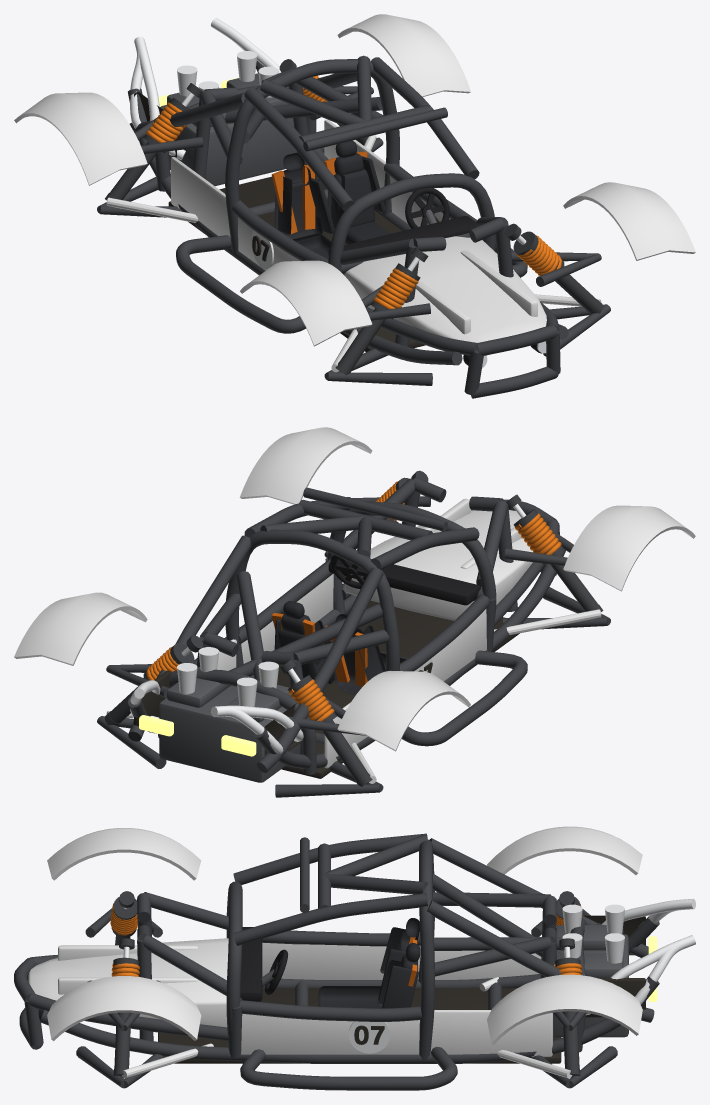
The model's file is body_baja.fbx.
3 views of the same model, one above another, from view 1: azimuth 30°, elevation 25°; view 2: azimuth 150°, elevation 25°; view 3: azimuth 270°, elevation 25° (orthographic). The views are drawn at different scales.
Parts seen in each view (by area): view 1: bajapaint_1, tube_1, dark_4, gunmetal_4, chrome_2, gunmetal_1, tube_10, tube_8, dark_5, gunmetal_6, chrome_1, orange_1 (+12 smaller); view 2: tube_1, bajapaint_1, gunmetal_4, gunmetal_1, dark_4, dark_5, chrome_1, chrome_2, tube_10, tube_6, gunmetal_9, gunmetal_7 (+12 smaller); view 3: tube_1, bajapaint_1, gunmetal_1, dark_4, chrome_2, gunmetal_4, chrome_1, dark_5, gunmetal_8, gunmetal_6, tube_9, white_2 (+8 smaller).
Boxes of the visible parts, bbox=[...] form: bajapaint_1: bbox=[14, 14, 695, 346]; tube_1: bbox=[128, 55, 568, 398]; dark_4: bbox=[274, 140, 390, 275]; gunmetal_4: bbox=[160, 73, 297, 186]; chrome_2: bbox=[130, 18, 281, 160]; gunmetal_1: bbox=[134, 92, 425, 351]; tube_10: bbox=[303, 107, 447, 151]; tube_8: bbox=[324, 348, 432, 385]; dark_5: bbox=[328, 216, 476, 255]; gunmetal_6: bbox=[504, 223, 603, 314]; chrome_1: bbox=[177, 51, 278, 97]; orange_1: bbox=[271, 151, 367, 234]; tube_1: bbox=[127, 477, 565, 774]; bajapaint_1: bbox=[14, 427, 695, 768]; gunmetal_4: bbox=[159, 667, 300, 782]; gunmetal_1: bbox=[134, 600, 522, 778]; dark_4: bbox=[274, 601, 406, 694]; dark_5: bbox=[328, 559, 481, 605]; chrome_1: bbox=[177, 647, 278, 706]; chrome_2: bbox=[130, 680, 303, 753]; tube_10: bbox=[303, 487, 447, 531]; tube_6: bbox=[275, 753, 383, 797]; gunmetal_9: bbox=[280, 659, 372, 786]; gunmetal_7: bbox=[506, 494, 603, 611]; tube_1: bbox=[14, 833, 659, 1090]; bajapaint_1: bbox=[28, 826, 642, 1056]; gunmetal_1: bbox=[158, 915, 645, 1063]; dark_4: bbox=[318, 918, 420, 1008]; chrome_2: bbox=[585, 898, 695, 1015]; gunmetal_4: bbox=[554, 925, 628, 1037]; chrome_1: bbox=[562, 904, 624, 963]; dark_5: bbox=[240, 927, 262, 1001]; gunmetal_8: bbox=[555, 938, 580, 1078]; gunmetal_6: bbox=[113, 938, 138, 1077]; tube_9: bbox=[76, 1046, 162, 1088]; white_2: bbox=[348, 1021, 390, 1053].
Size of the model in its own units: 0.2657 by 0.1194 by 0.42.
